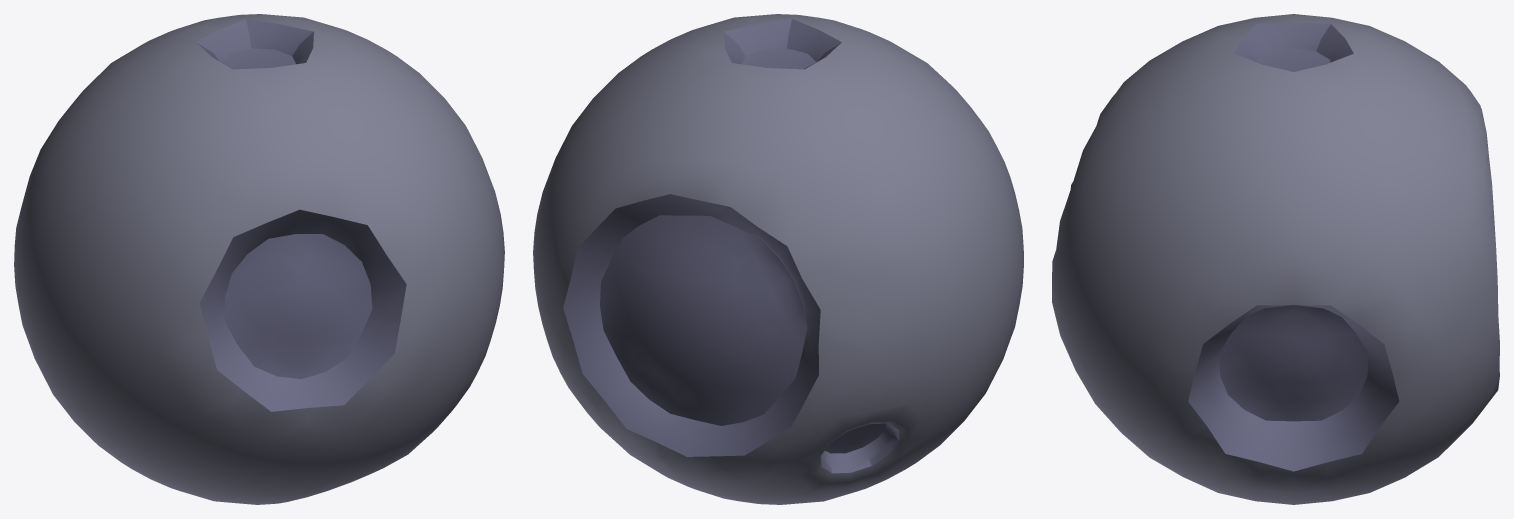
File: Planet_3.glb
3 renders of one model, left to right at view 1: azimuth 30°, elevation 25°; view 2: azimuth 150°, elevation 25°; view 3: azimuth 270°, elevation 25°, orthographic.
Parts seen in each view (by area): view 1: planet_3_geometry; view 2: planet_3_geometry; view 3: planet_3_geometry.
Boxes of the visible parts, box(x1,y1,x2,y2) form: planet_3_geometry: box(14, 14, 504, 504); planet_3_geometry: box(533, 14, 1023, 504); planet_3_geometry: box(1052, 14, 1499, 504).
Size of the model in its own units: 3.66 by 3.68 by 3.41.
Materials: 1 (1 with a texture image).
